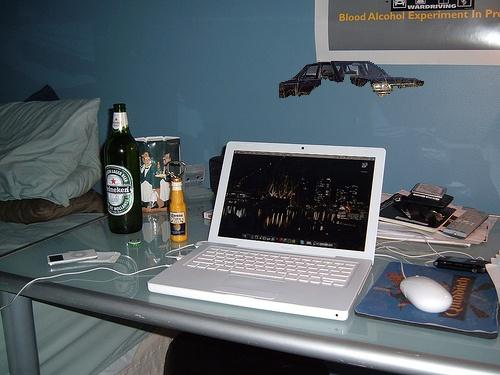tampered: (280, 62, 424, 98)
